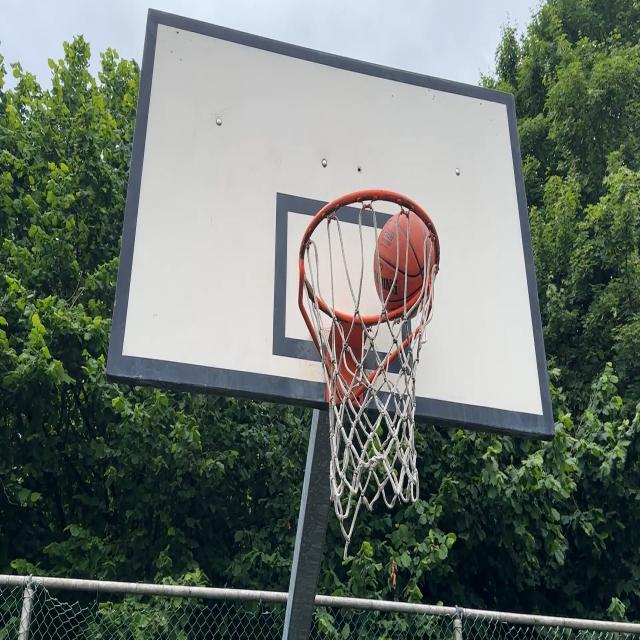rebound_hit: (374, 208, 438, 319)
